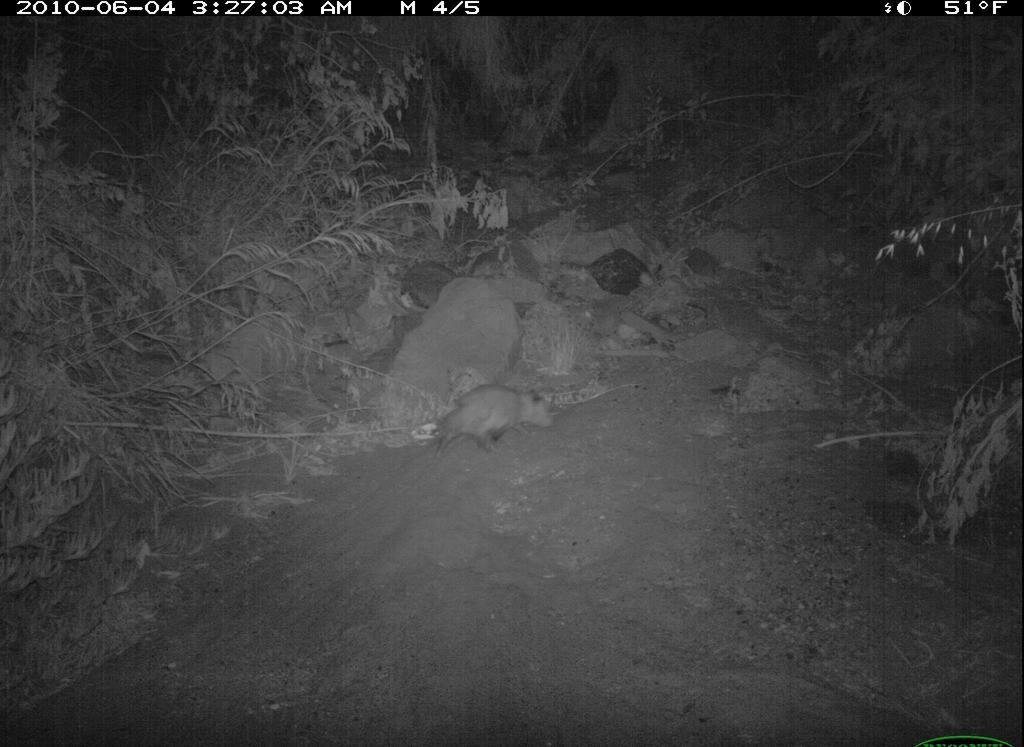opossum: (413, 369, 573, 473)
